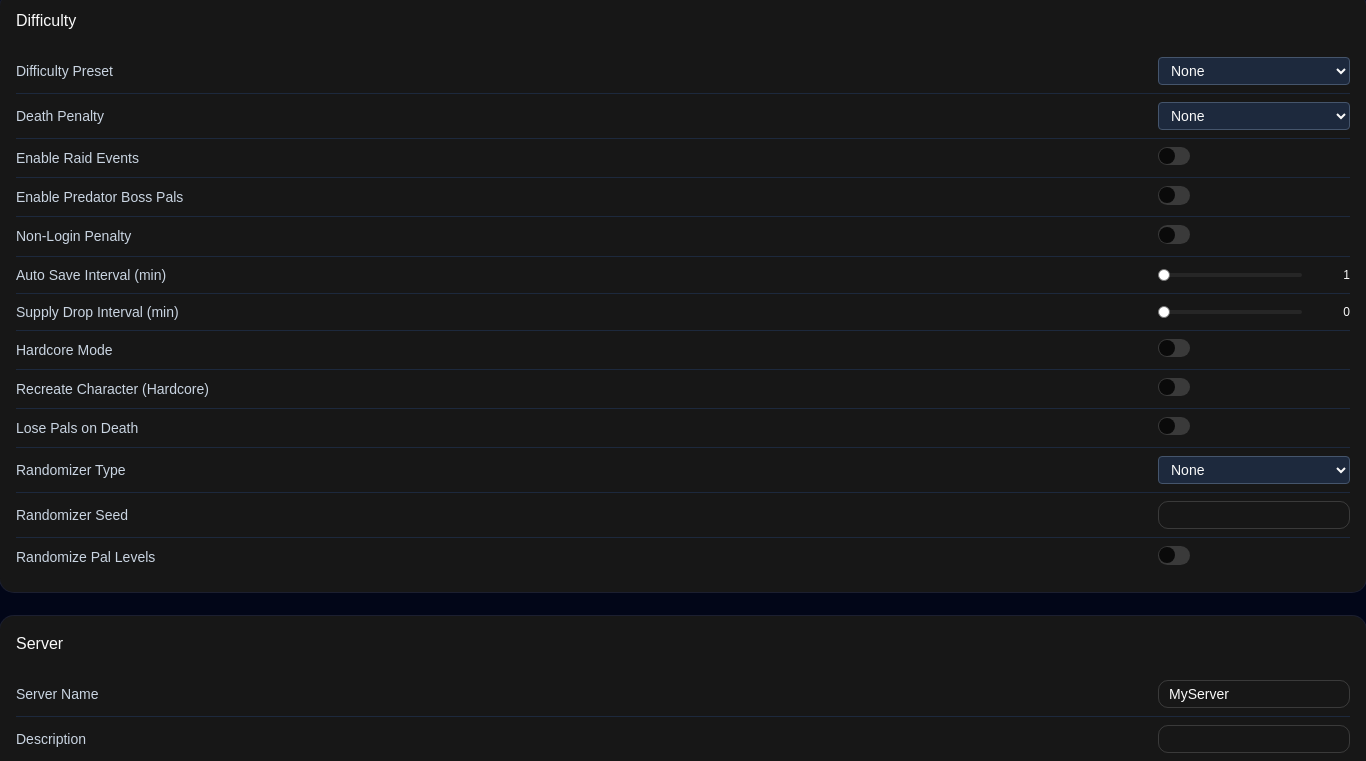
Test: ConfigPage save feedback › shows a success toast when saving succeeds
The image size is (1366, 761).
Replace the text in the field showing "MyServer" in the row of "Server Name" with "MyServer2" at x=1254, y=694, box [1158,680,1350,708]
(page scrolled)
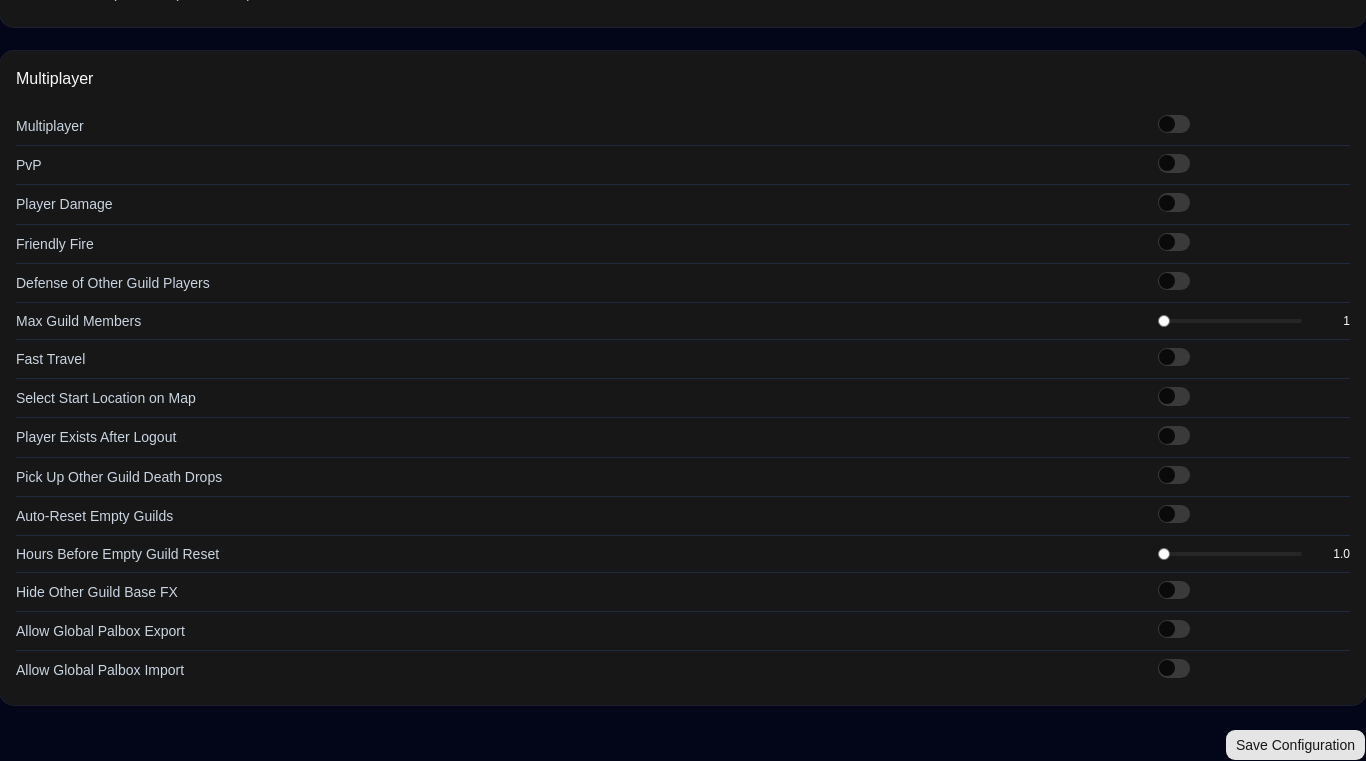
Click the button "Save Configuration".
click(1295, 745)  # box [1225,729,1365,760]
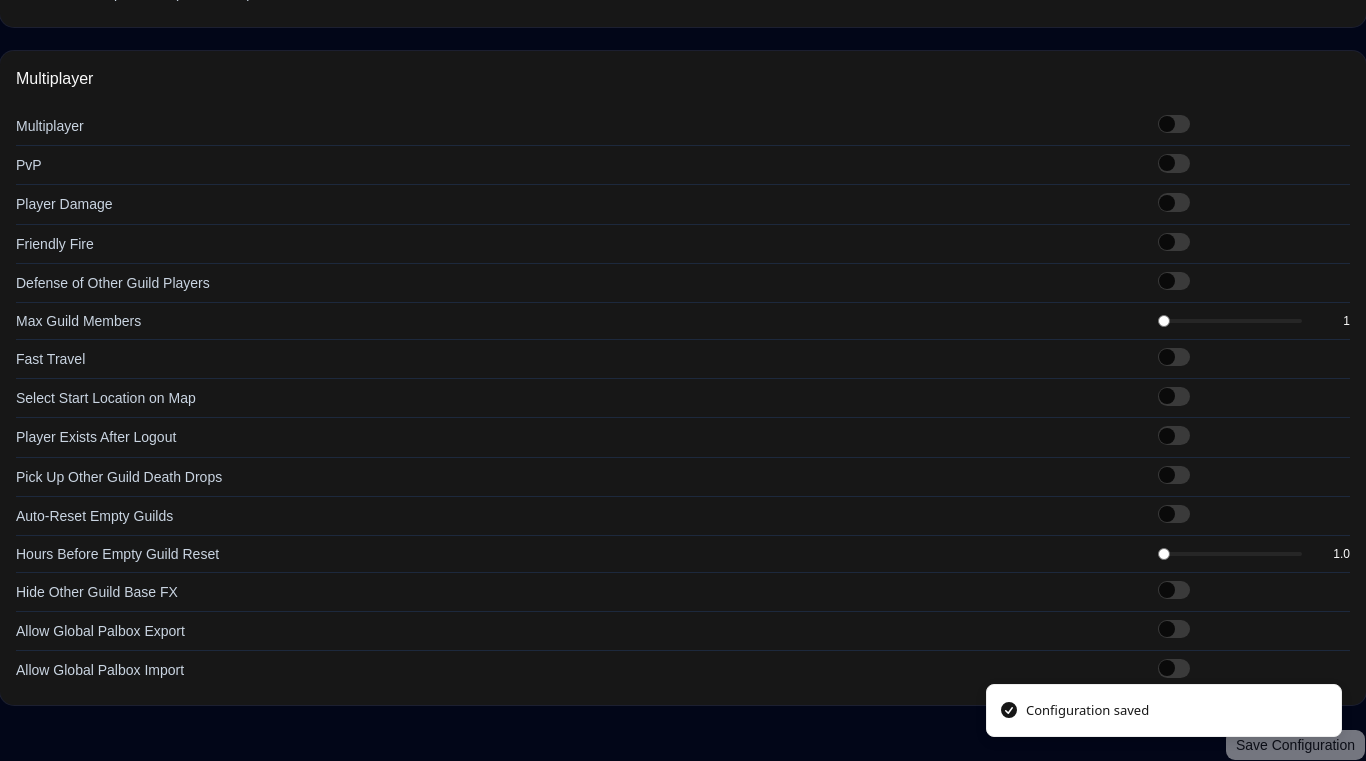
Now the text "Configuration saved" is shown, box [1026,700,1149,720]
